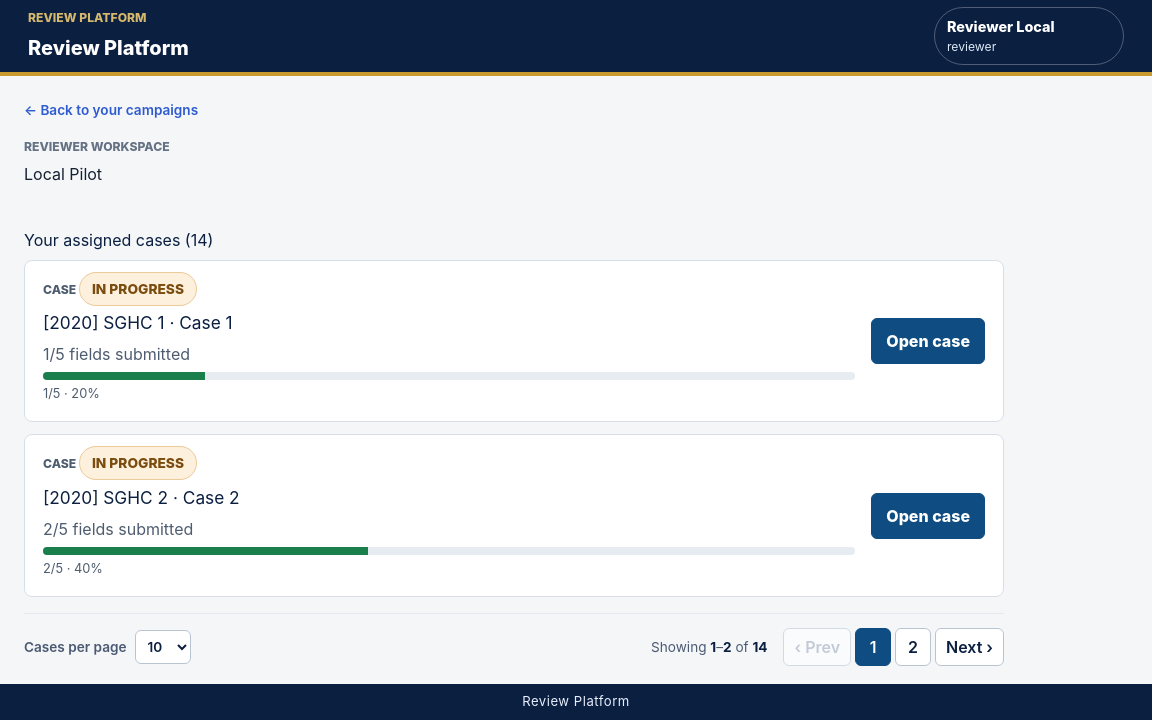
ReviewerQueuePage assigned-case total and pagination › renders a numbered pager and pages through keyset results on demand
Expected: the heading "[2020] SGHC 1 · Case 1" is shown, left=43, top=312, right=233, bottom=333
Expected: the heading "[2020] SGHC 2 · Case 2" is shown, left=43, top=487, right=240, bottom=508
Click the button named "Page 2". click: (913, 647)
box: left=895, top=628, right=931, bottom=666
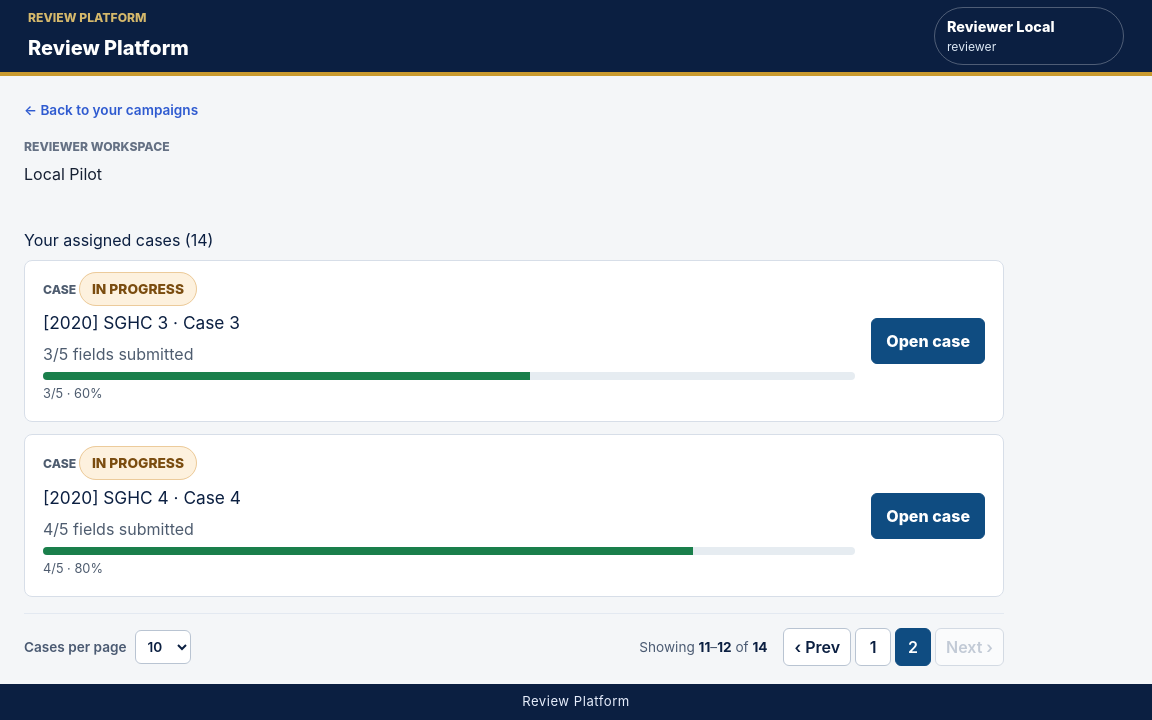
Result: the heading "[2020] SGHC 3 · Case 3" is shown at left=43, top=312, right=240, bottom=333
Result: the heading "[2020] SGHC 1 · Case 1" is gone
